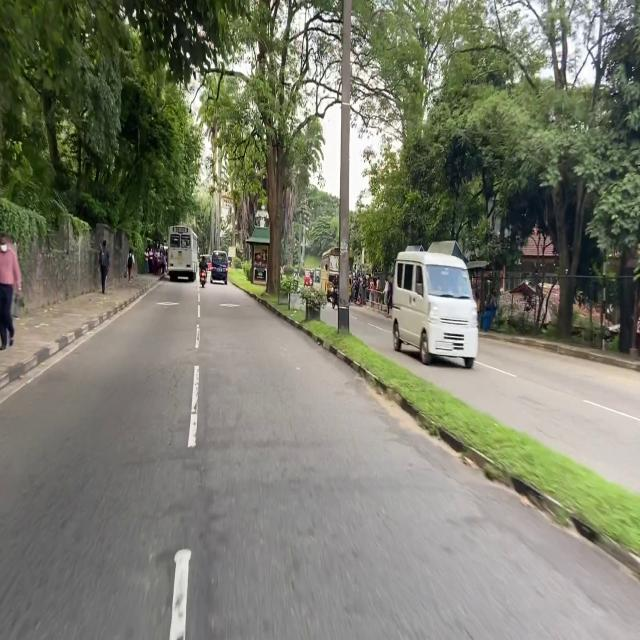bus: (320, 247, 353, 300), (167, 225, 197, 281)
motorcycle: (331, 289, 338, 309), (200, 270, 206, 287)
person: (0, 233, 21, 350), (99, 240, 109, 295), (481, 295, 496, 331), (126, 249, 134, 281), (360, 274, 367, 305), (369, 276, 376, 307), (384, 279, 389, 316), (199, 255, 208, 271), (376, 277, 380, 311), (153, 249, 158, 275), (149, 248, 153, 273), (144, 249, 148, 273), (294, 270, 299, 288)
three wheeler: (304, 267, 312, 286), (206, 254, 212, 270), (314, 268, 320, 283)
van: (392, 250, 477, 369), (211, 251, 227, 284)
